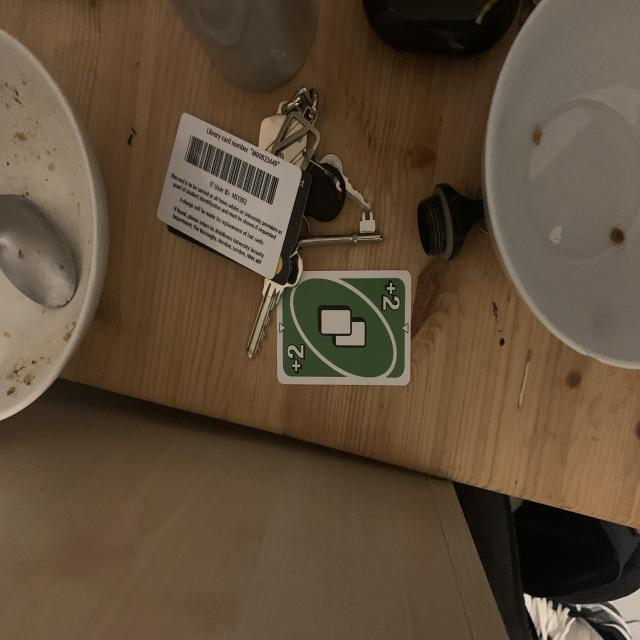lred-20: (378, 276, 404, 316)
